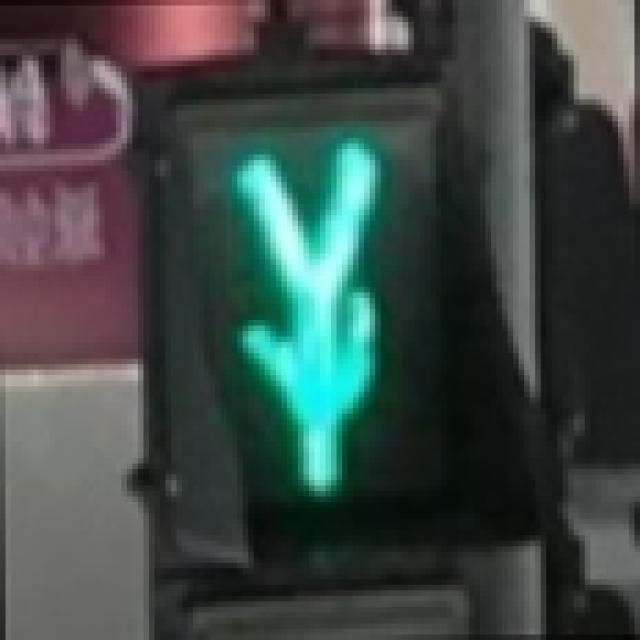geen-crossing: (182, 93, 442, 524)
